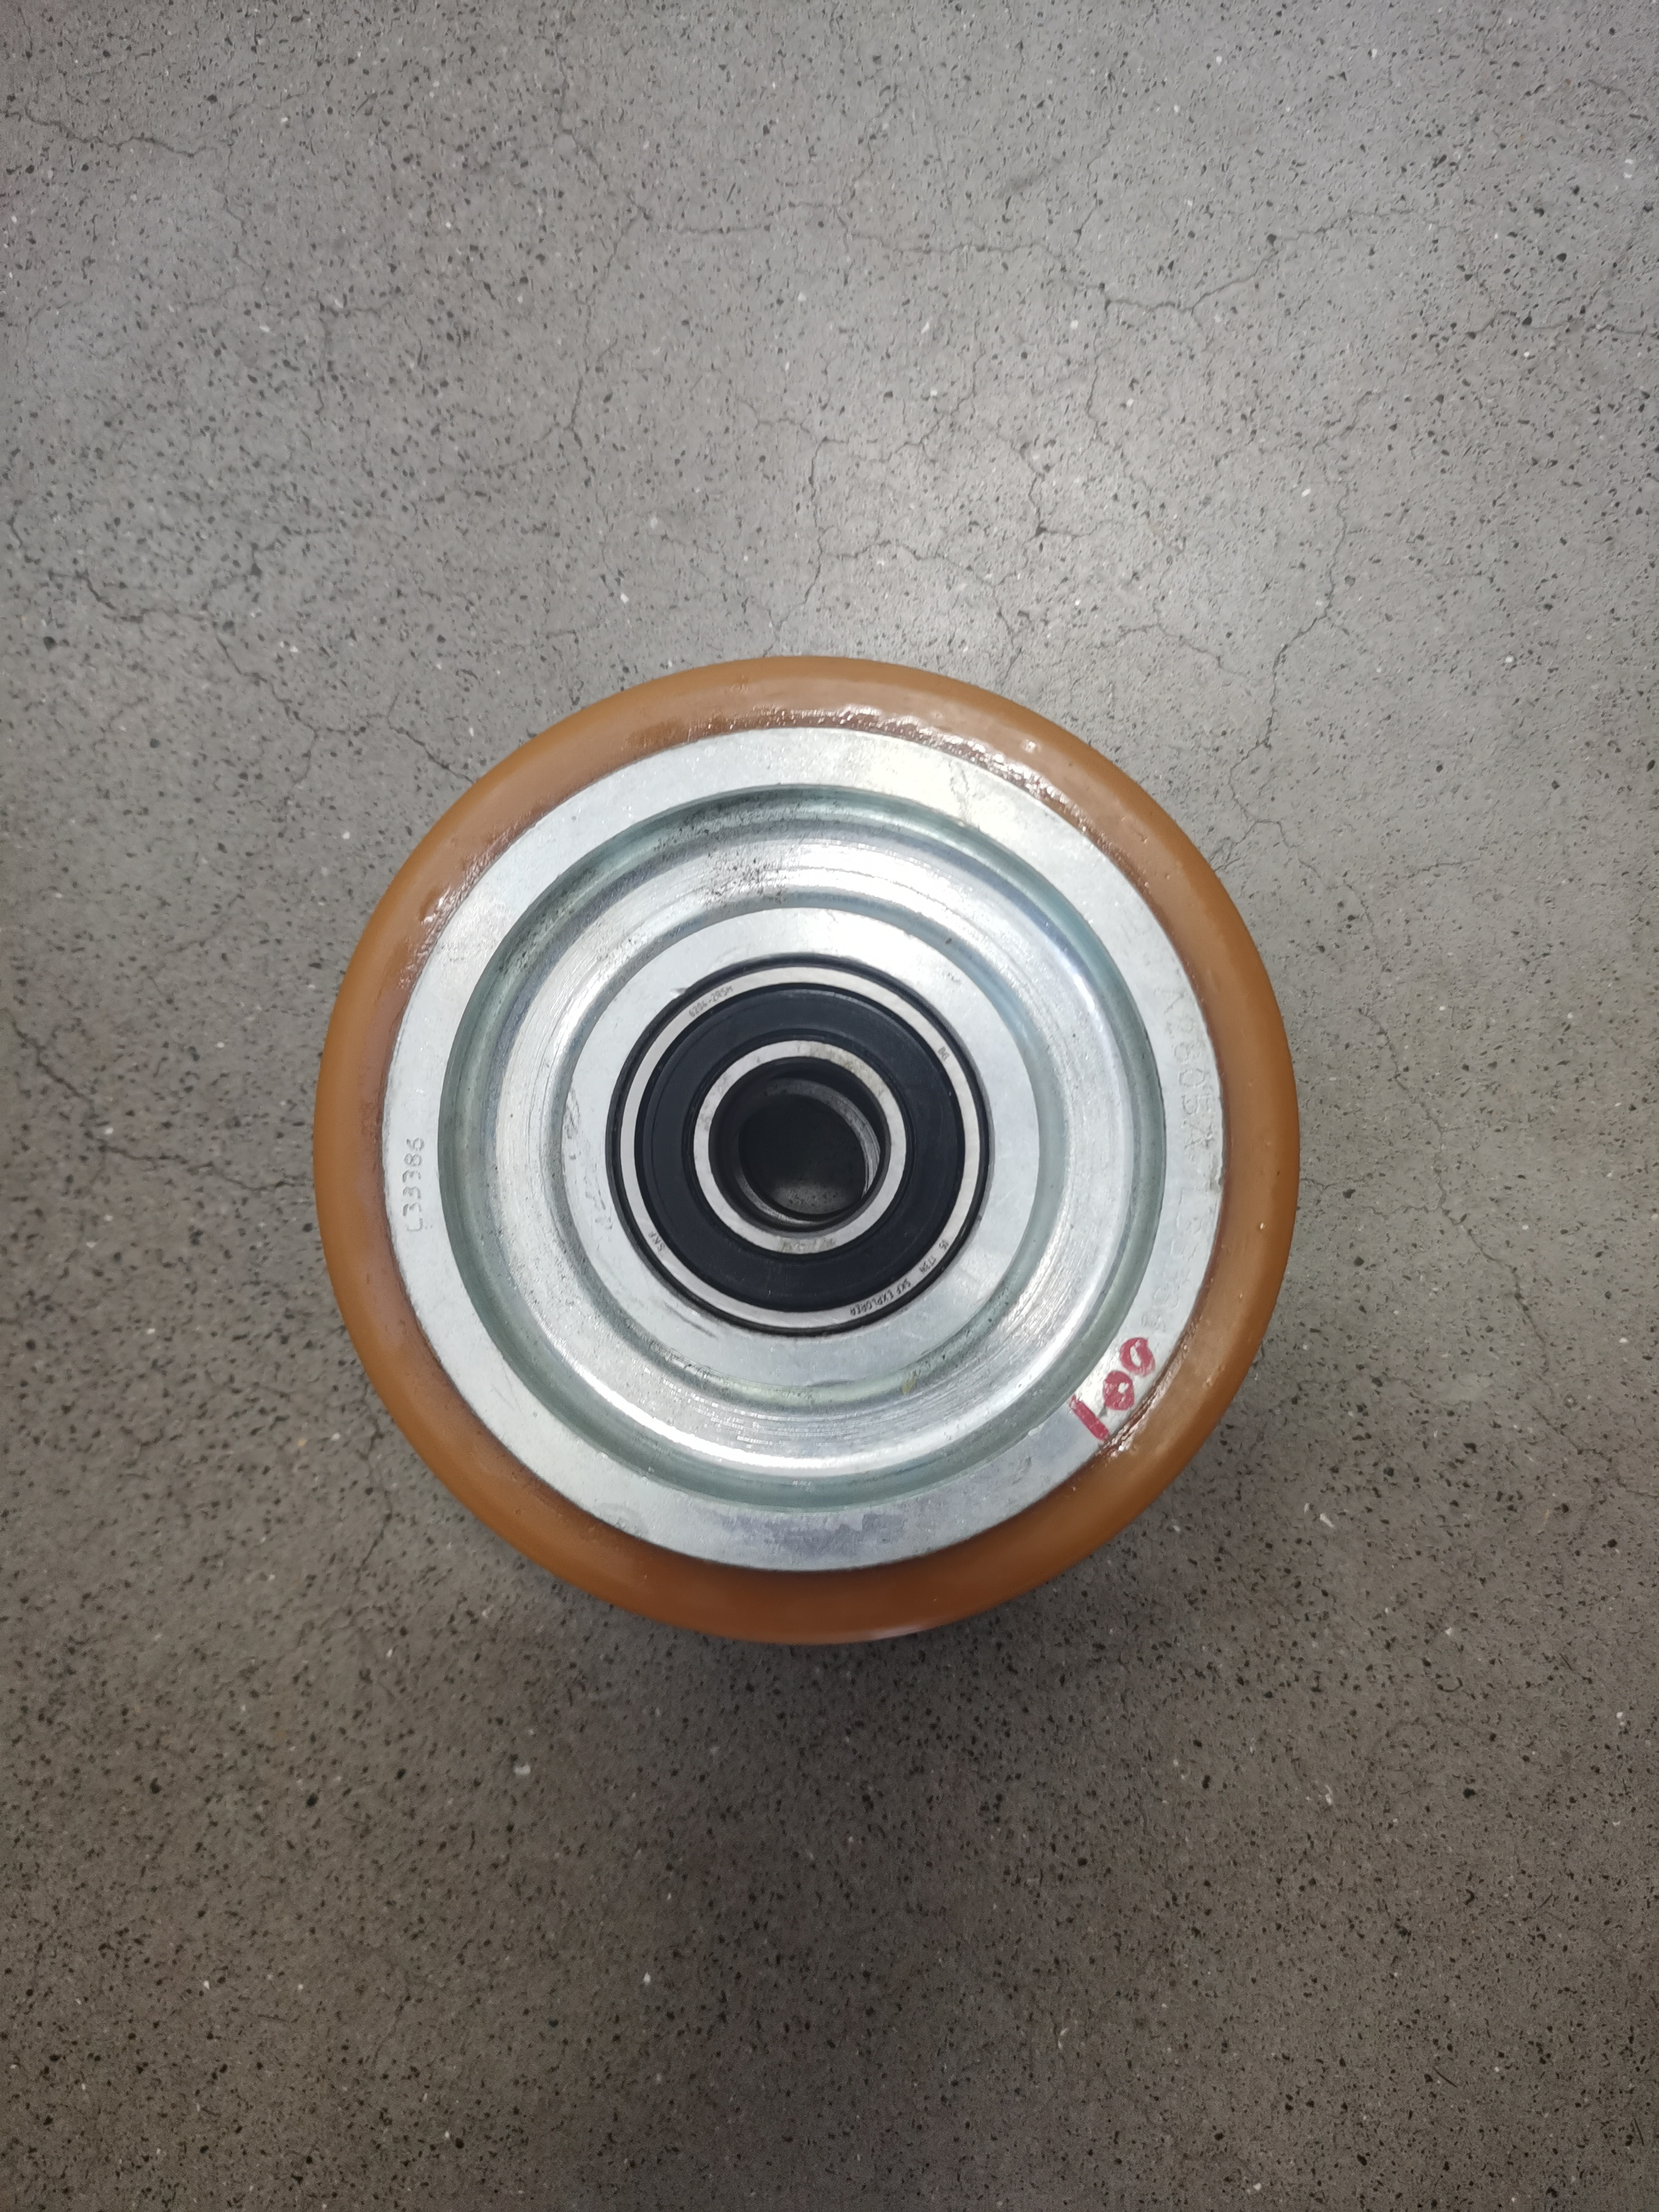good_wheel: (261, 658, 1302, 1639)
